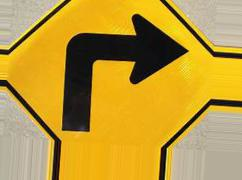right: (55, 12, 192, 134)
